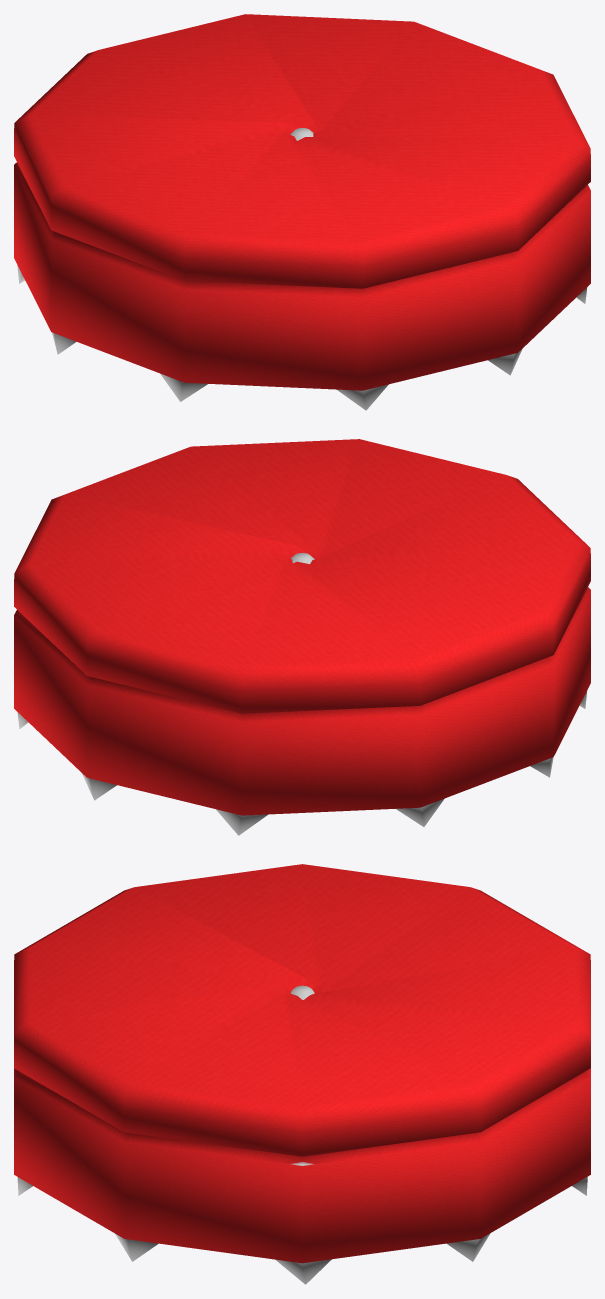
The model's file is Ottoman_B_14.FBX.
3 renders of one model, top to bottom at view 1: azimuth 30°, elevation 25°; view 2: azimuth 150°, elevation 25°; view 3: azimuth 270°, elevation 25°, orthographic. The views are drawn at different scales.
Parts seen in each view (by area): view 1: Ottoman_02; view 2: Ottoman_02; view 3: Ottoman_02.
Boxes of the visible parts, x1,y1,x2,y2 form: Ottoman_02: (14, 14, 590, 410); Ottoman_02: (14, 439, 590, 835); Ottoman_02: (14, 864, 590, 1284).
Size of the model in its own units: 232 by 73.27 by 220.
